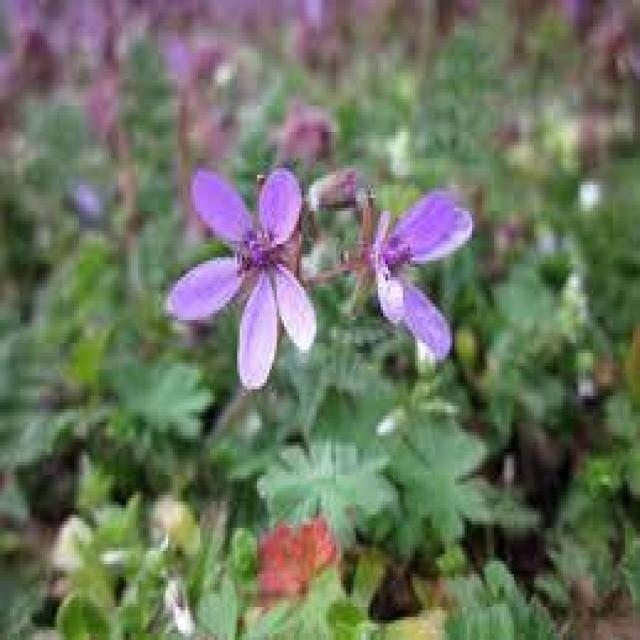organic waste: (160, 157, 318, 374), (356, 183, 482, 368)
